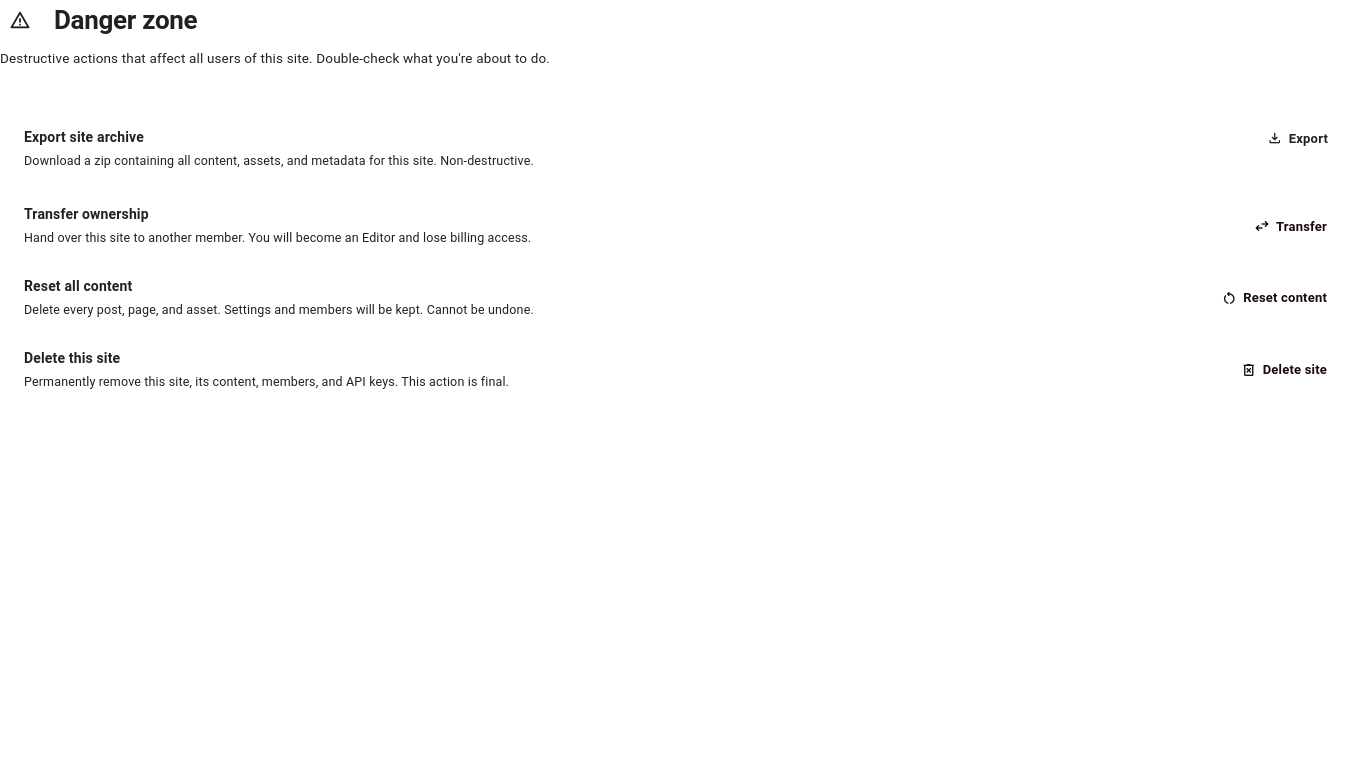
Test case: DangerZonePage — Transfer Ownership › side-effects: a successful transfer refreshes auth and closes the dialog
Click the button with test id "site-settings.danger.action.transferOwnership". click: point(1290, 226)
box: [1239,210,1342,242]
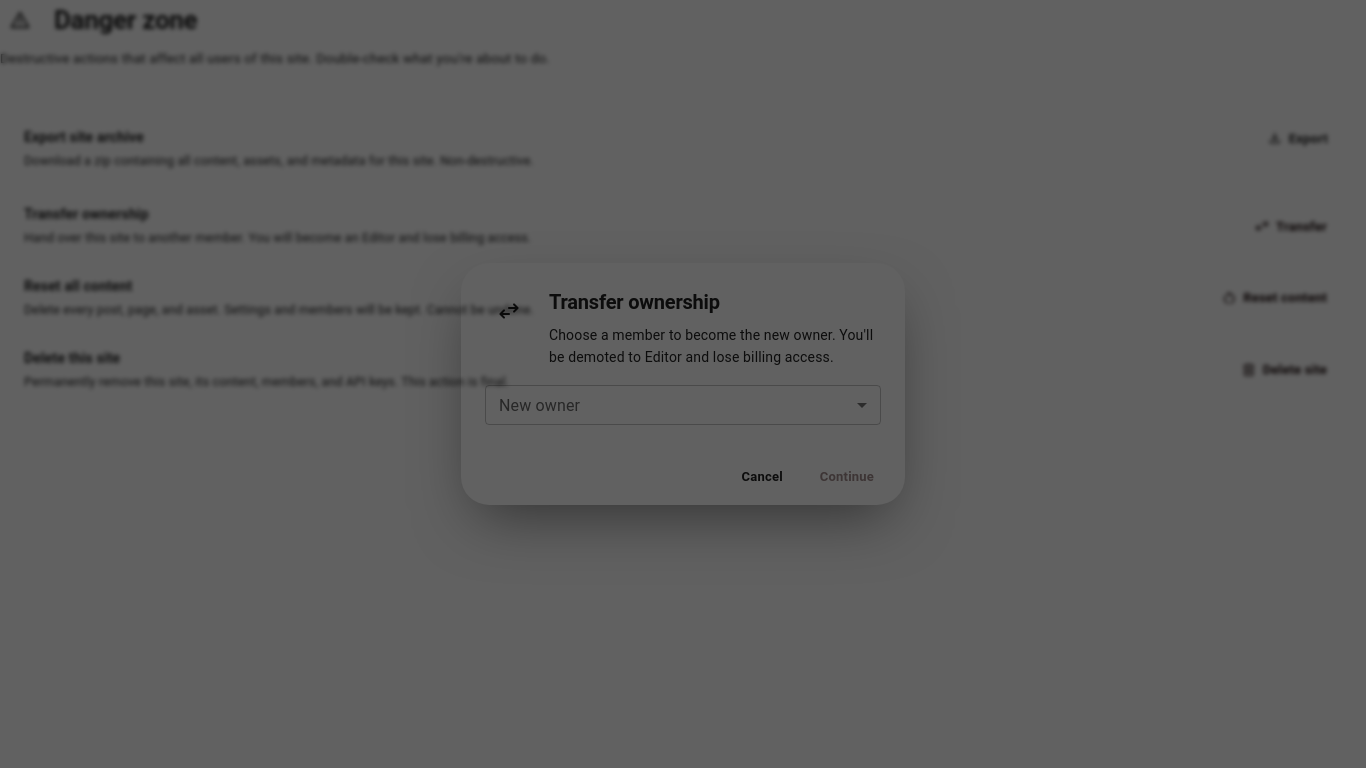
Now the element with test id "transfer-ownership.picker" is shown
Click the dropdown. click: point(683, 405)
box: [485,385,881,425]
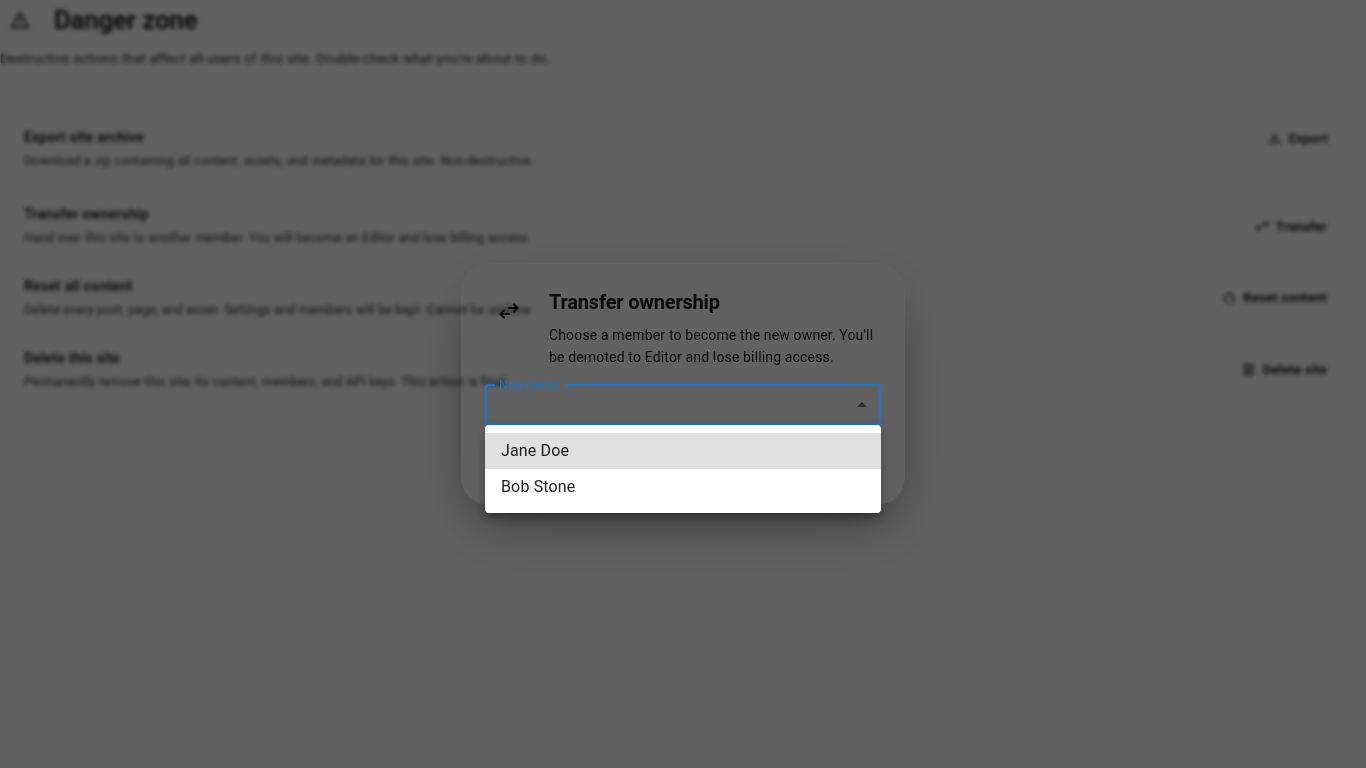
Click the option "Bob Stone". click: point(538, 486)
box: [501,477,575,496]
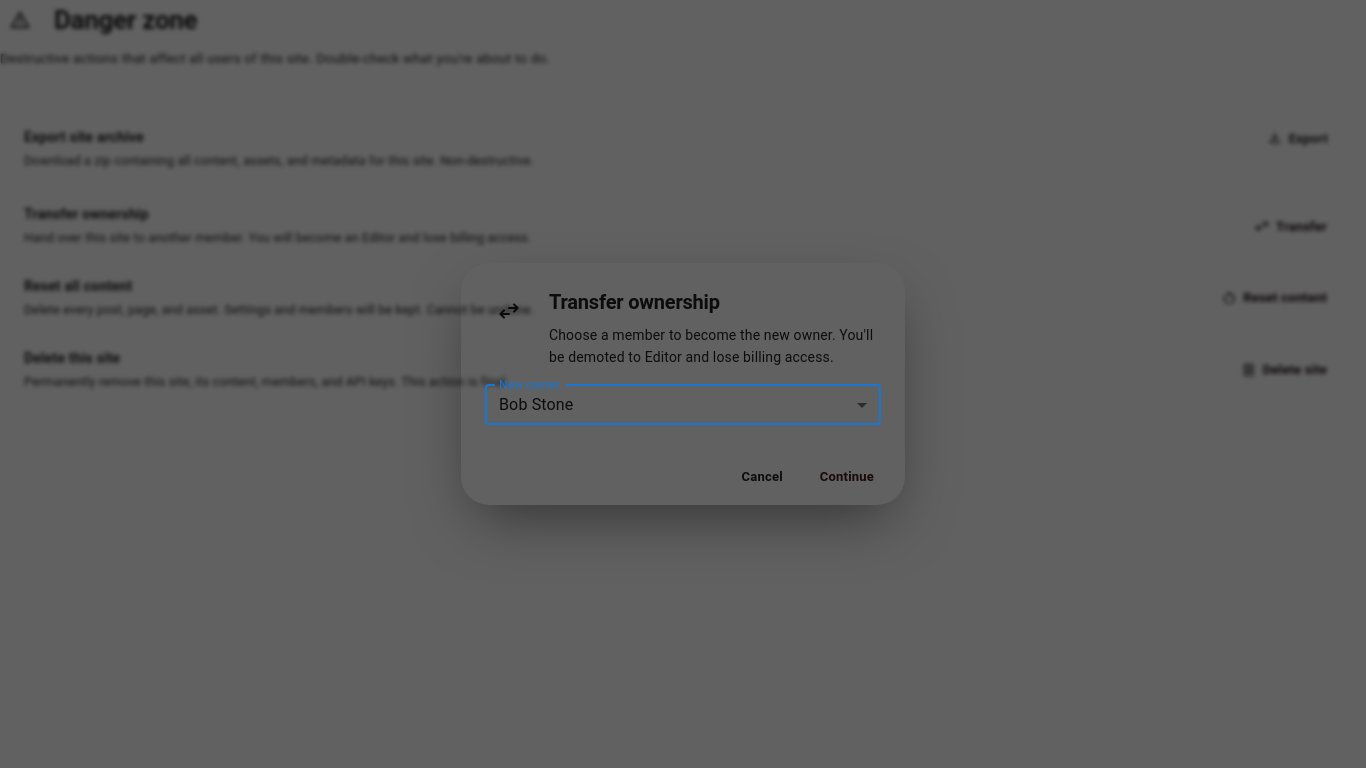
Click the button with test id "transfer-ownership.continue". click: point(847, 477)
box: [805,461,889,493]
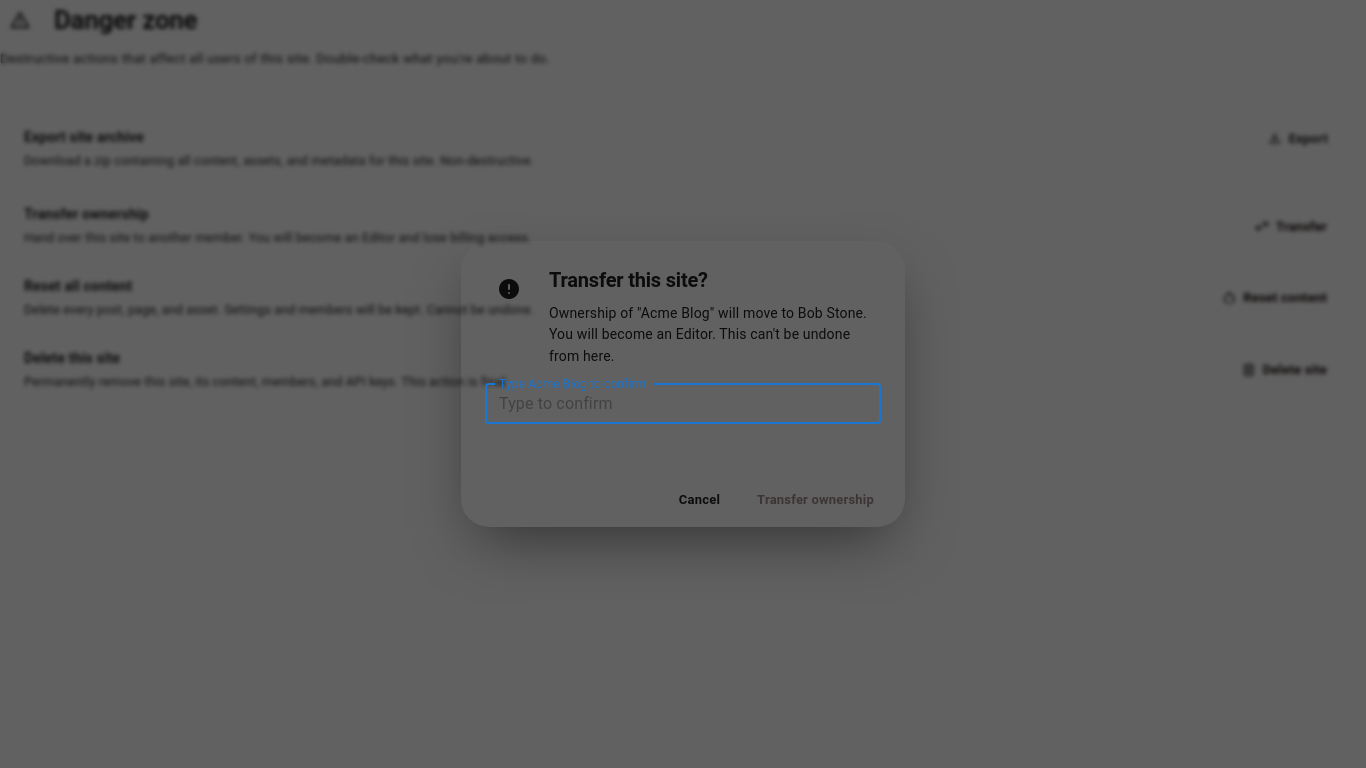
Type "Acme Blog" into the field with test id "danger-confirm-dialog.input". click: point(683, 404)
box: [485,384,881,424]
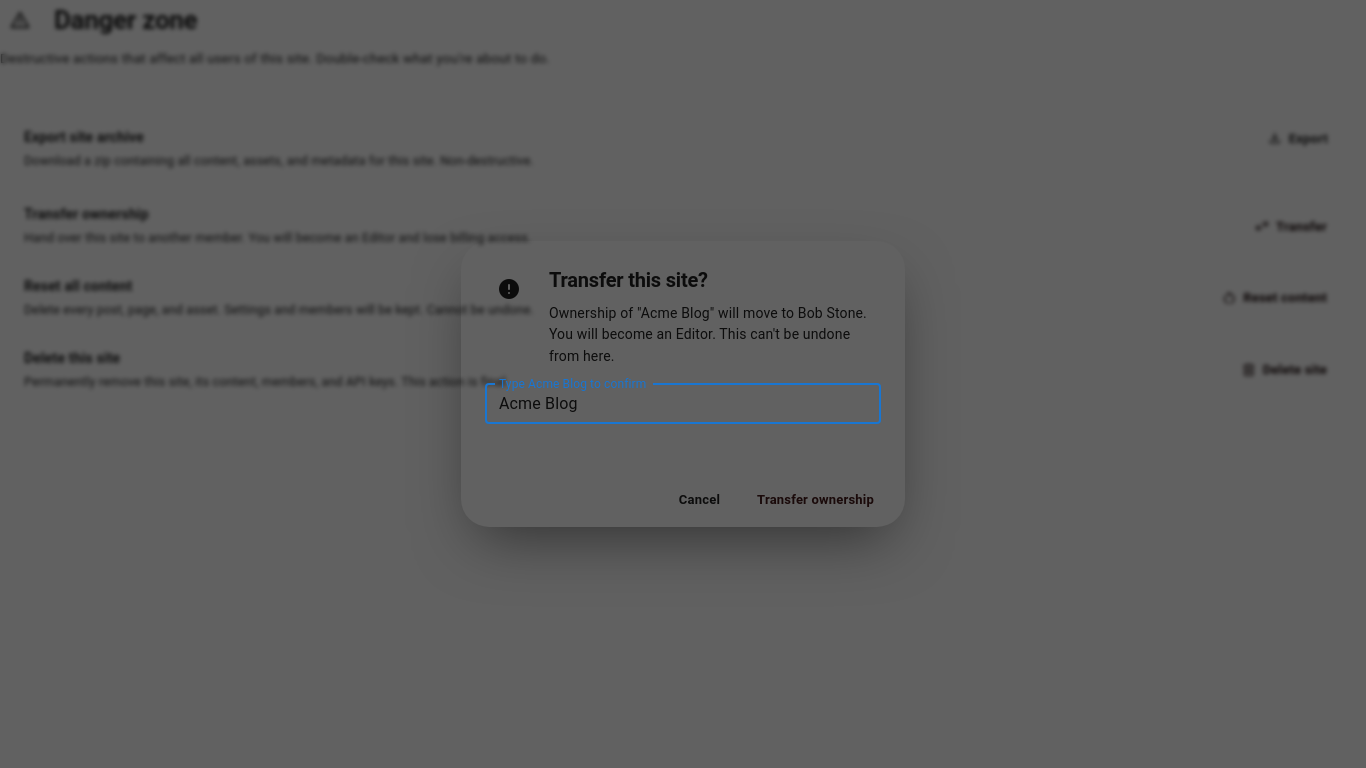
Click the button with test id "danger-confirm-dialog.confirm". click: point(816, 500)
box: [742,484,889,516]
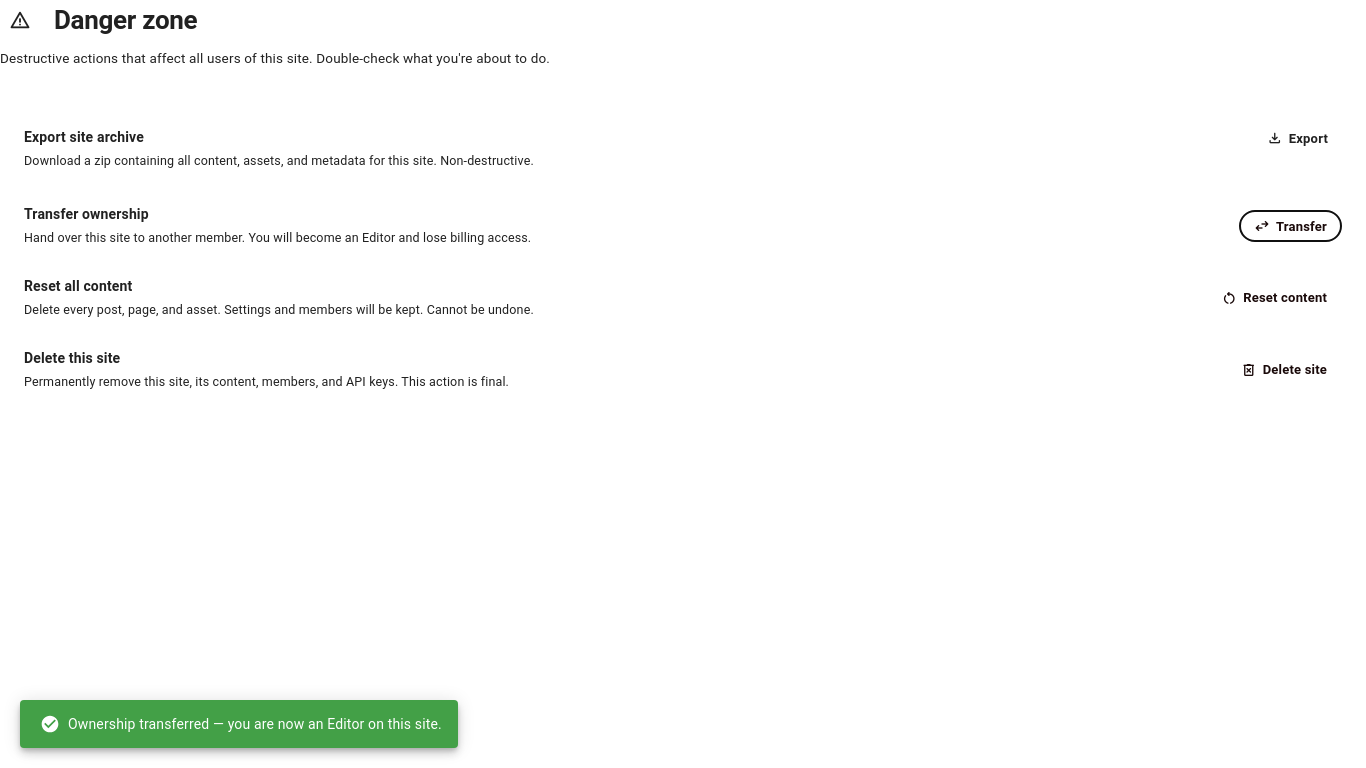
Now the element with test id "danger-confirm-dialog" is gone
